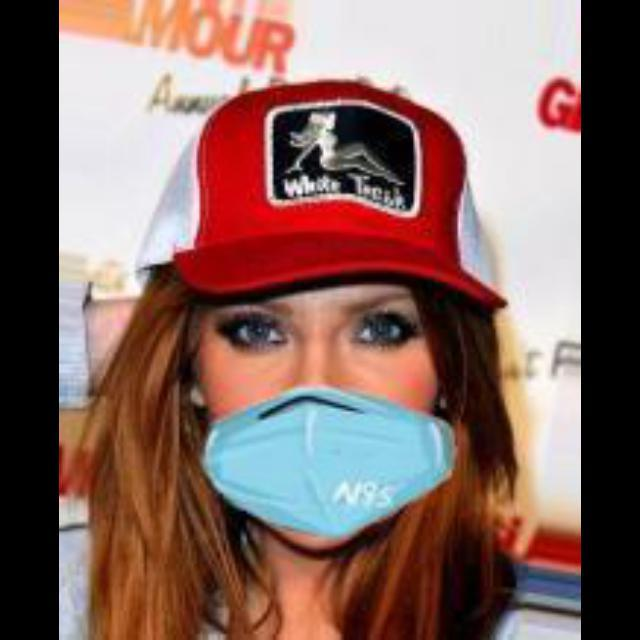suspicion: (178, 246, 472, 548)
